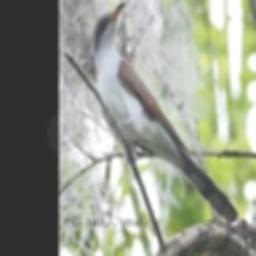Cuckoo: (94, 2, 239, 222)
